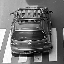motor: (15, 5, 50, 55)
